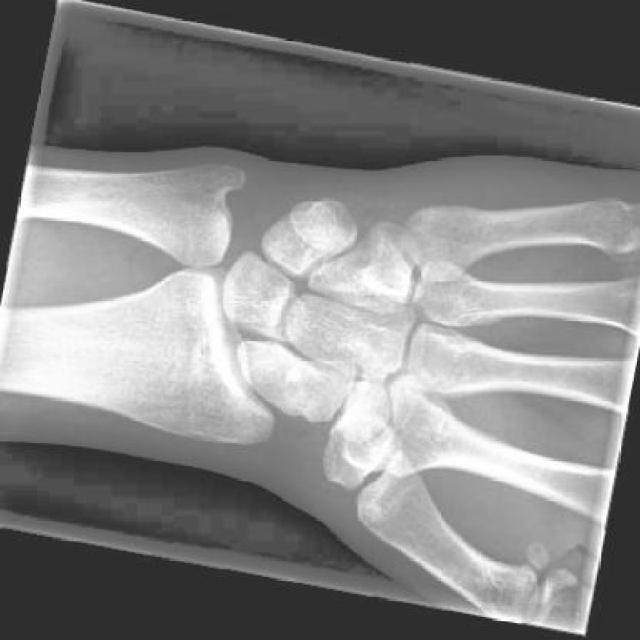Fracture: (275, 355, 331, 431)
